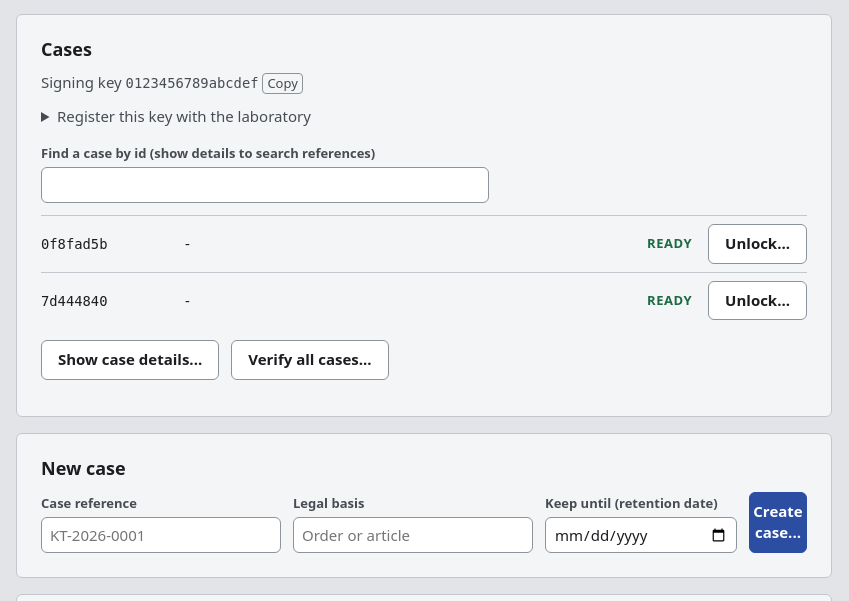
case details › lists only the cases past their retention date when asked
(page scrolled)
Click the button "Show case details...".
click(130, 360)  # box top-left (41, 340), bottom-right (219, 380)
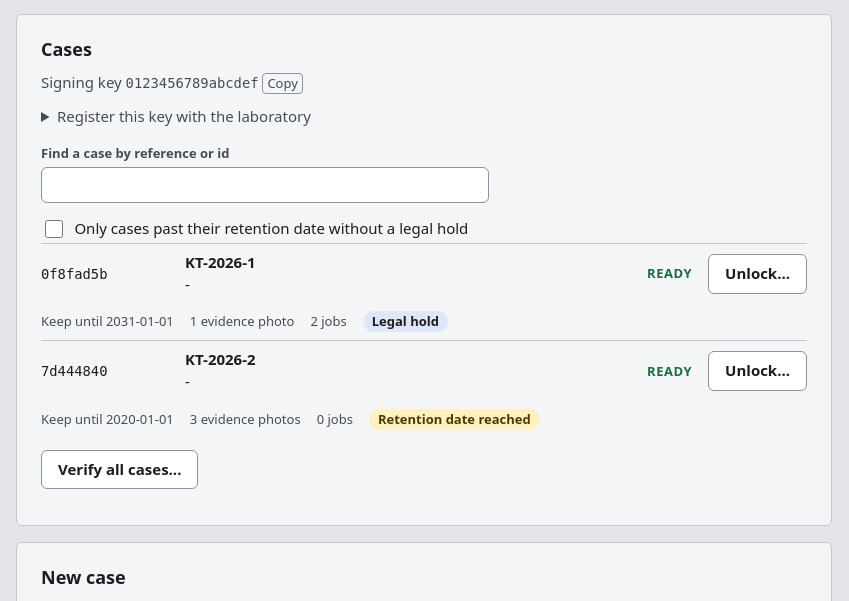
Expected: the text "KT-2026-1" is shown, top-left (185, 252), bottom-right (256, 272)
Click the checkbox labelled "Only cases past their retention date without a legal hold".
click(54, 229)  # box top-left (45, 220), bottom-right (63, 238)
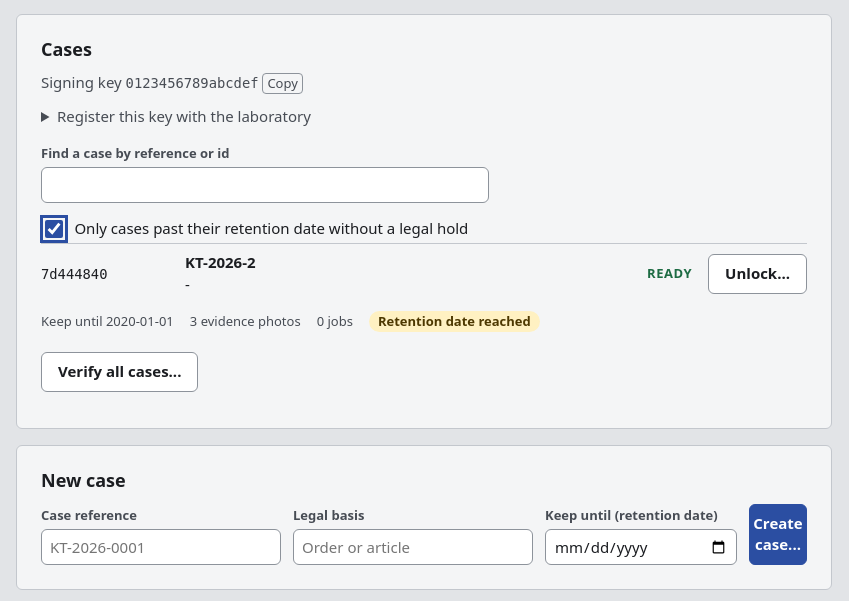
Expected: the list item shows "KT-2026-2", top-left (185, 252), bottom-right (256, 272)
Expected: the number of list items is 1, top-left (41, 243), bottom-right (807, 340)
